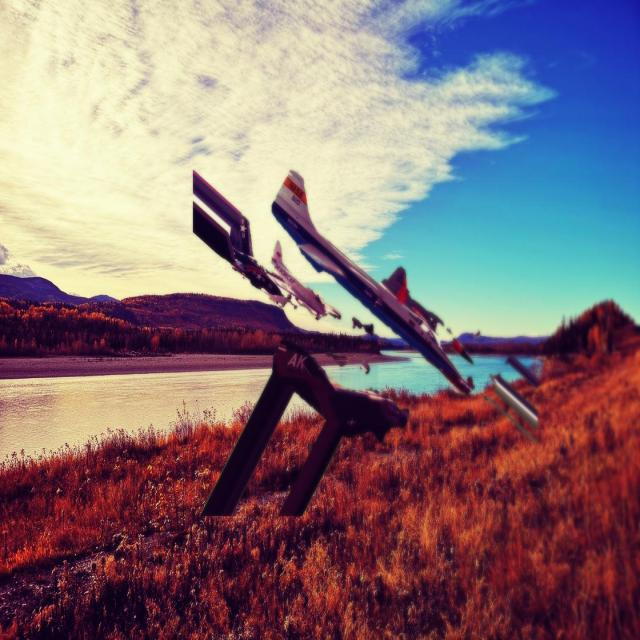airplane: (271, 169, 476, 395), (199, 338, 409, 517), (272, 236, 340, 321)
